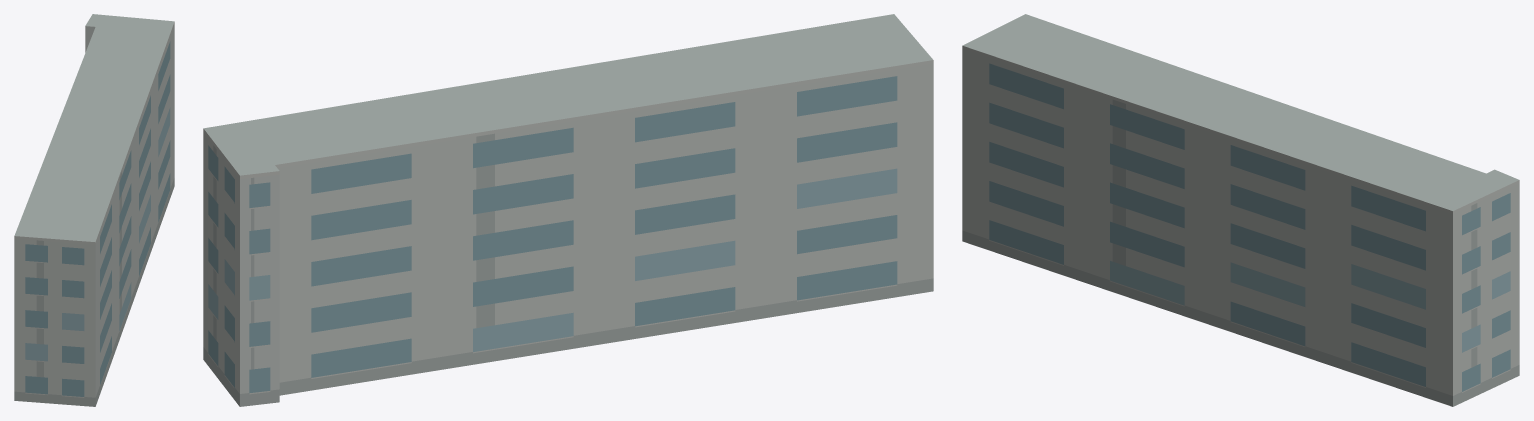
File: survey-upis-32783799.glb
3 views of the same model, side by side, from view 1: azimuth 30°, elevation 25°; view 2: azimuth 150°, elevation 25°; view 3: azimuth 270°, elevation 25° (orthographic). The views are drawn at different scales.
Parts seen in each view (by area): view 1: survey-upis-32783799.tmp; view 2: survey-upis-32783799.tmp; view 3: survey-upis-32783799.tmp.
Boxes of the visible parts, <box> form: survey-upis-32783799.tmp: <box>14,14,174,406</box>; survey-upis-32783799.tmp: <box>203,14,933,406</box>; survey-upis-32783799.tmp: <box>962,14,1519,406</box>.
Bounding box in the file's own units: 32.96 × 15.25 × 39.35.
